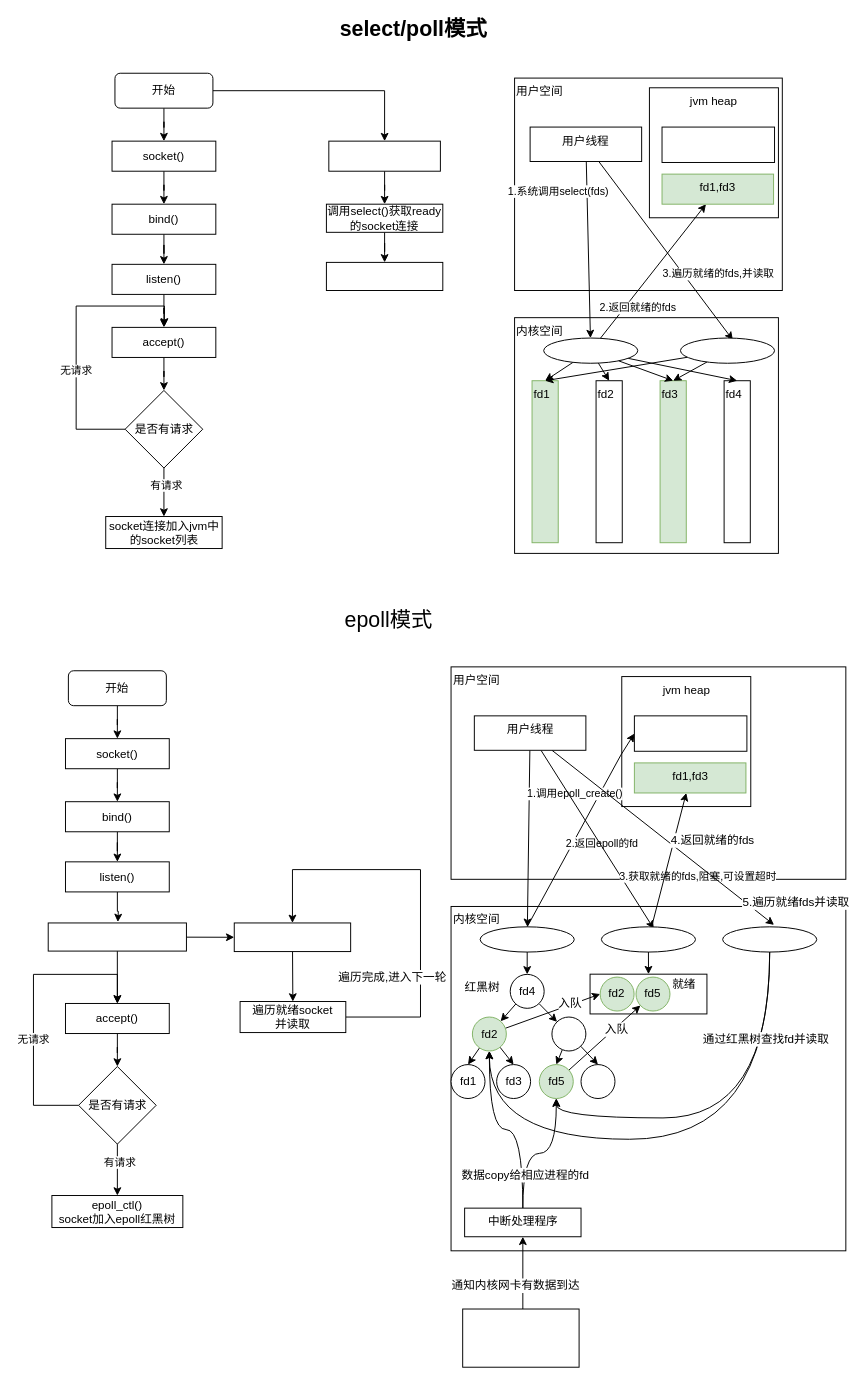
Image size: 866x1384. Some labels were removed from this diagram. The shapes that lost their labels are listed below. From the top down, each one's centre as x and y in pixels, then its label:
At (x=384, y=155): "在jvm中创建socket列表".
At (x=718, y=144): "fd1,fd2,fd3,fd4".
At (x=384, y=276): "遍历ready的socket 进行数据读取".
At (x=590, y=350): "select".
At (x=727, y=350): "read".
At (x=690, y=733): "epoll_create()返回的fd".
At (x=116, y=936): "epoll_creat 返回epll的fd".
At (x=292, y=937): "epoll_wait() 获取就绪socket".
At (x=526, y=939): "epoll_create()".
At (x=647, y=939): "epoll_wait()".
At (x=769, y=939): "read()".
At (x=568, y=1033): "fd6".
At (x=597, y=1081): "fd7".
At (x=520, y=1337): "网卡".
